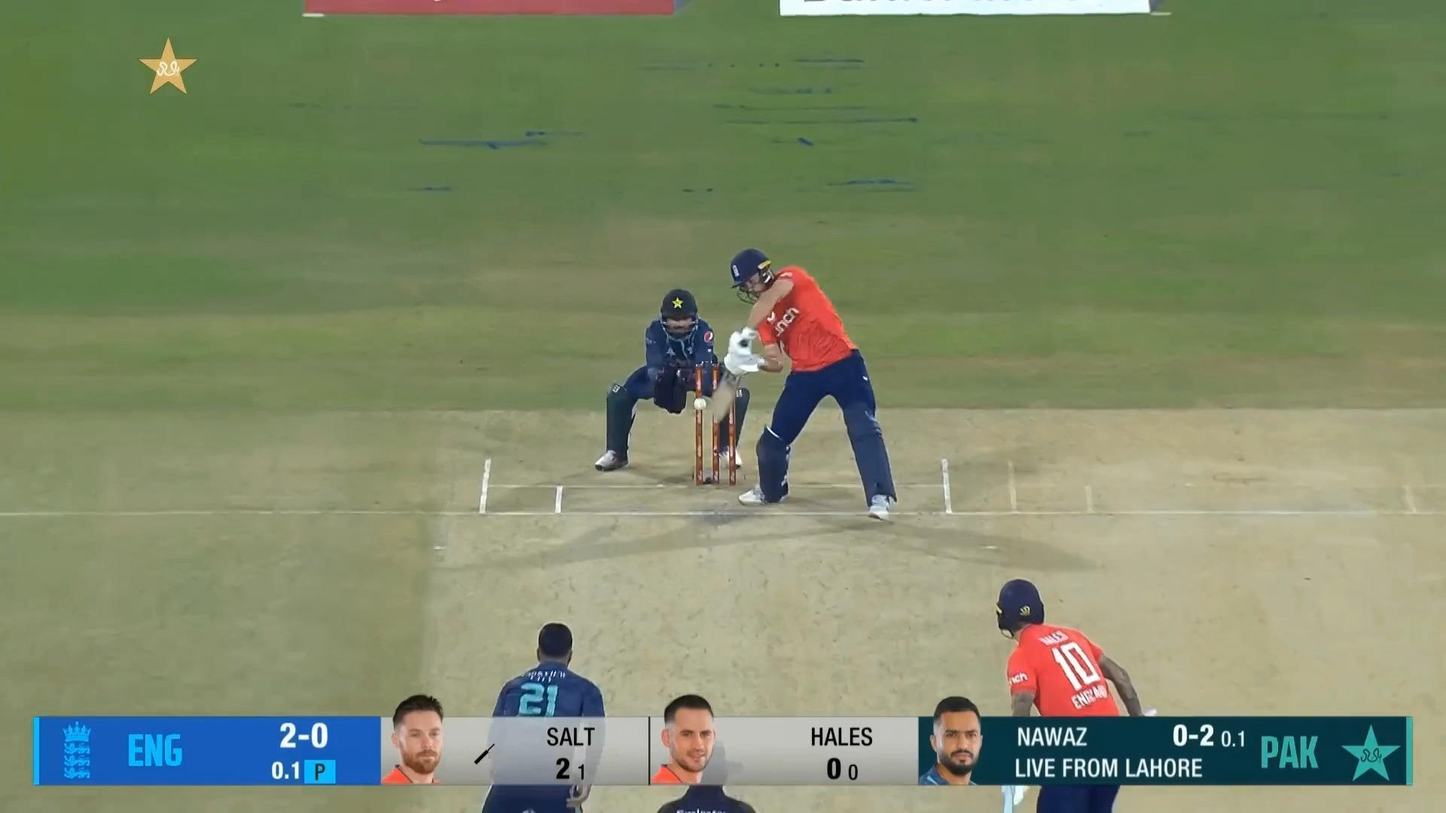BM 1: (708, 245, 900, 522)
BO: (480, 622, 607, 813)
